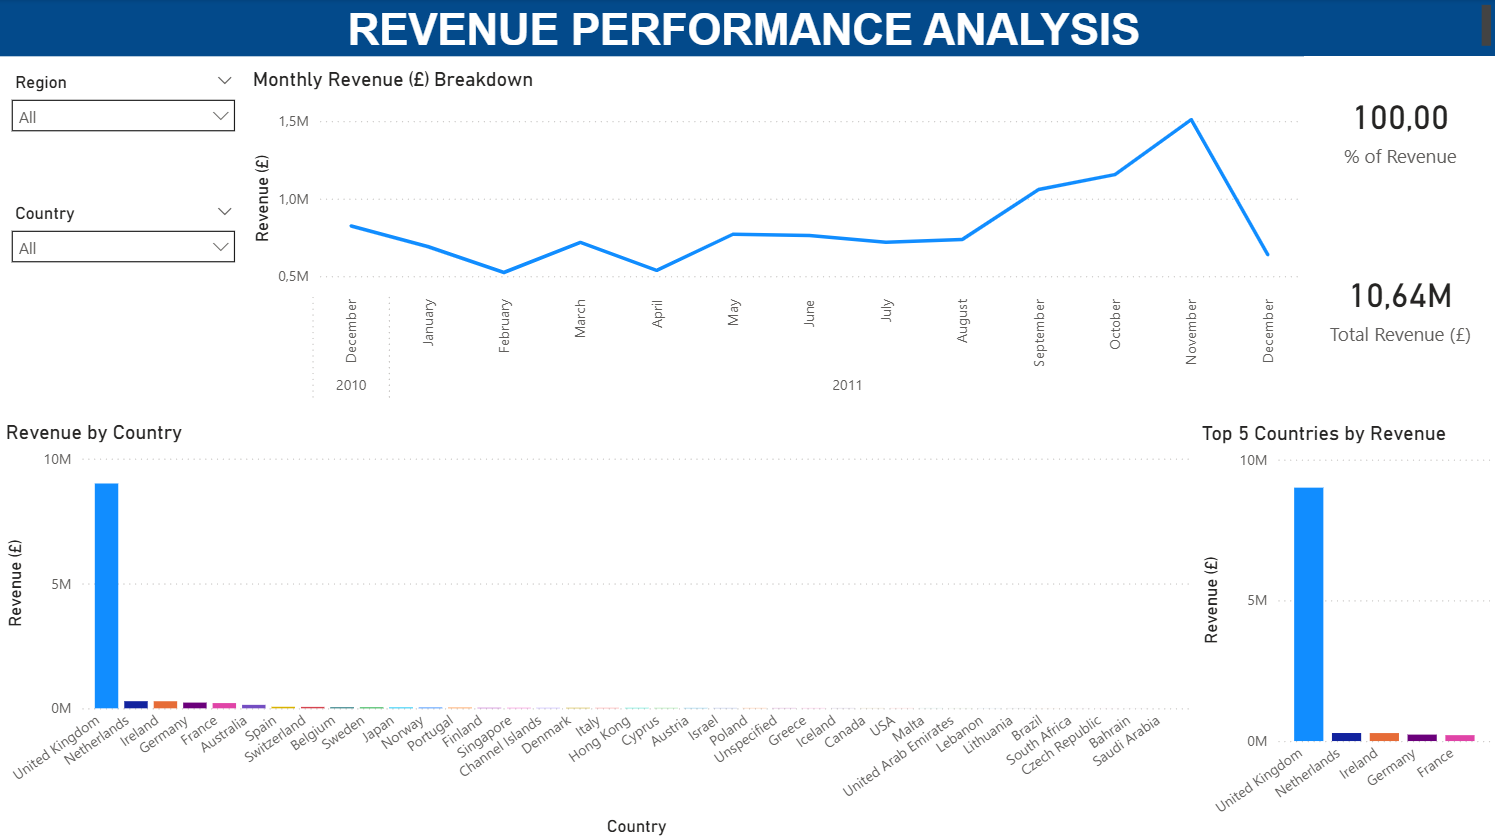

Layout of this report page (visuals, bound fields, positions):
{"tool":"powerbi","page":{"name":"Revenue Performance Dashboard","canvas":[1280,720],"ordinal":0},"visuals":[{"type":"textbox","box":[0,0,1280,48.6],"z":0},{"type":"lineChart","title":"Monthly Revenue (£) Breakdown","fields":{"Y":["Sum(MonthlyRevenueByCountry_RevenuePerformanceData.Revenue)"],"Category":["MonthlyRevenueByCountry_RevenuePerformanceData.Month.1.1.Variation.Date Hierarchy.Year","MonthlyRevenueByCountry_RevenuePerformanceData.Month.1.1.Variation.Date Hierarchy.Month"]},"box":[211.3,57.8,903.9,294.1],"z":1000},{"type":"card","fields":{"Values":["Sum(MonthlyRevenueByCountry_RevenuePerformanceData.Revenue)"]},"box":[1115.3,205.3,164.7,113.9],"z":2000},{"type":"slicer","fields":{"Values":["MonthlyRevenueByCountry_RevenuePerformanceData.Country"]},"box":[0,170.2,211.2,92.4],"z":3000},{"type":"columnChart","title":"Revenue by Country","fields":{"Y":["Sum(MonthlyRevenueByCountry_RevenuePerformanceData.Revenue)"],"Category":["MonthlyRevenueByCountry_RevenuePerformanceData.Country"],"Series":["MonthlyRevenueByCountry_RevenuePerformanceData.Country"]},"box":[0,359.7,1023,360.5],"z":4000},{"type":"card","fields":{"Values":["MonthlyRevenueByCountry_RevenuePerformanceData.% Revenue"]},"box":[1115.3,49.2,164.7,121.6],"z":6000},{"type":"columnChart","title":"Top 5 Countries by Revenue","fields":{"Category":["MonthlyRevenueByCountry_RevenuePerformanceData.Country"],"Y":["Sum(MonthlyRevenueByCountry_RevenuePerformanceData.Revenue)"],"Series":["MonthlyRevenueByCountry_RevenuePerformanceData.Country"]},"box":[1023,360.5,257,359.7],"z":7000},{"type":"slicer","fields":{"Values":["Mapping Table.Region"]},"box":[0,58.1,211.2,89.8],"z":7002}]}

Visuals, with their boxes in screenshot pixels (x1, y1, x2, y2), scaled from the page's 1280x720 canvas onto the 1495x840 screenshot:
textbox: bbox(0, 0, 1494, 57)
"Monthly Revenue (£) Breakdown" lineChart: bbox(247, 67, 1303, 411)
card - Sum(MonthlyRevenueByCountry_RevenuePerformanceData.Revenue): bbox(1303, 240, 1494, 372)
slicer - MonthlyRevenueByCountry_RevenuePerformanceData.Country: bbox(0, 199, 247, 306)
"Revenue by Country" columnChart: bbox(0, 420, 1195, 839)
card - MonthlyRevenueByCountry_RevenuePerformanceData.% Revenue: bbox(1303, 57, 1494, 199)
"Top 5 Countries by Revenue" columnChart: bbox(1195, 421, 1494, 839)
slicer - Mapping Table.Region: bbox(0, 68, 247, 173)
